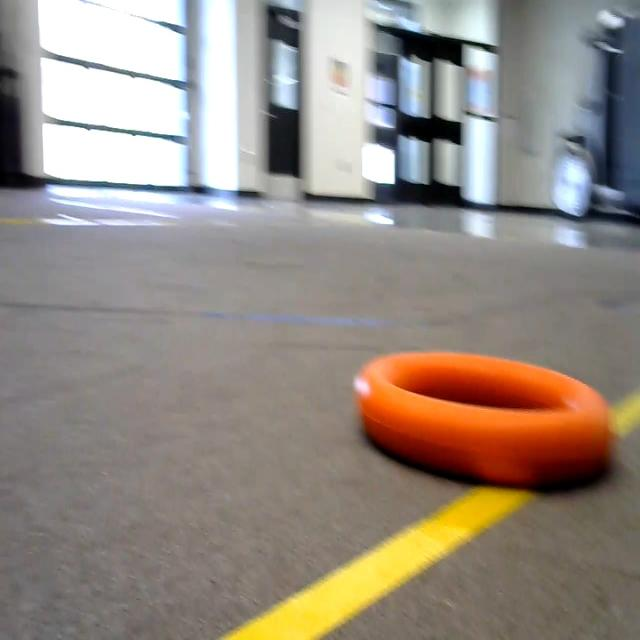note: (339, 327, 620, 505)
